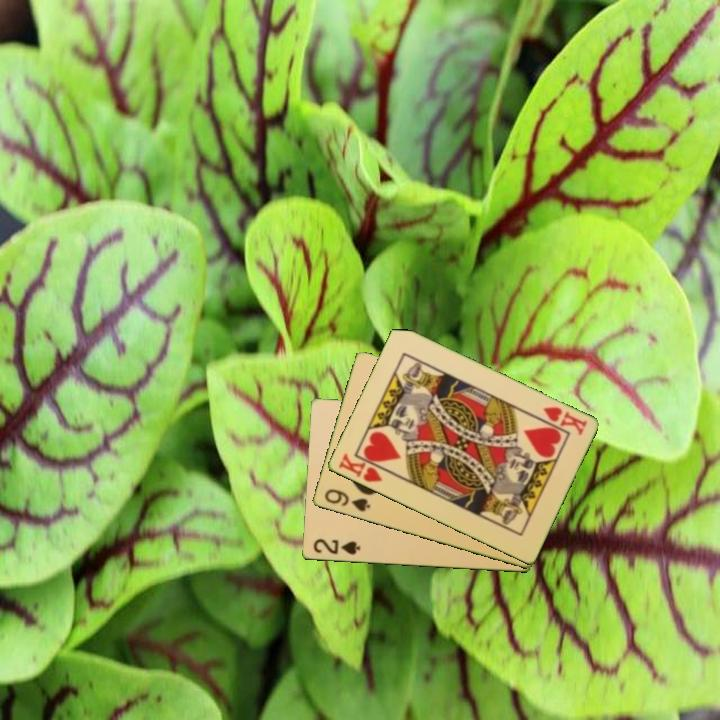2s: (309, 536, 363, 558)
9s: (321, 485, 373, 515)
Kh: (335, 450, 392, 485), (539, 403, 590, 439)
